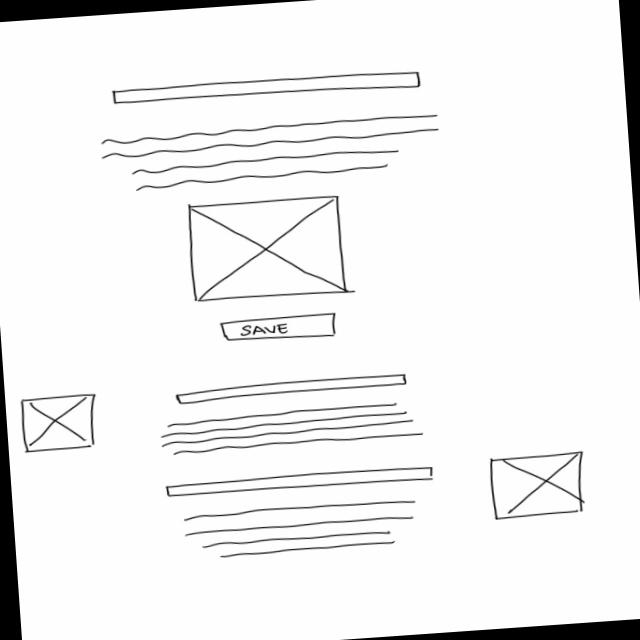image: (184, 192, 350, 305), (487, 448, 589, 522), (18, 392, 100, 454)
input: (110, 66, 421, 108), (163, 464, 434, 501), (173, 371, 410, 405)
textbox: (97, 112, 445, 195), (178, 494, 422, 564), (156, 398, 425, 458)
